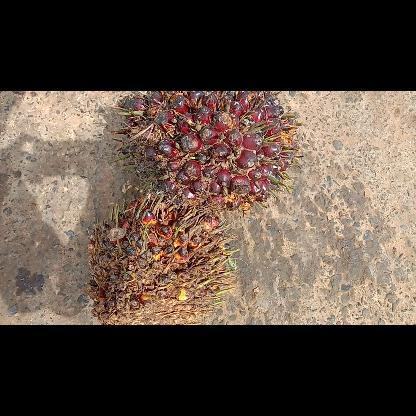Kurang masak: (110, 91, 304, 216)
TBS abnormal: (84, 192, 240, 324)
